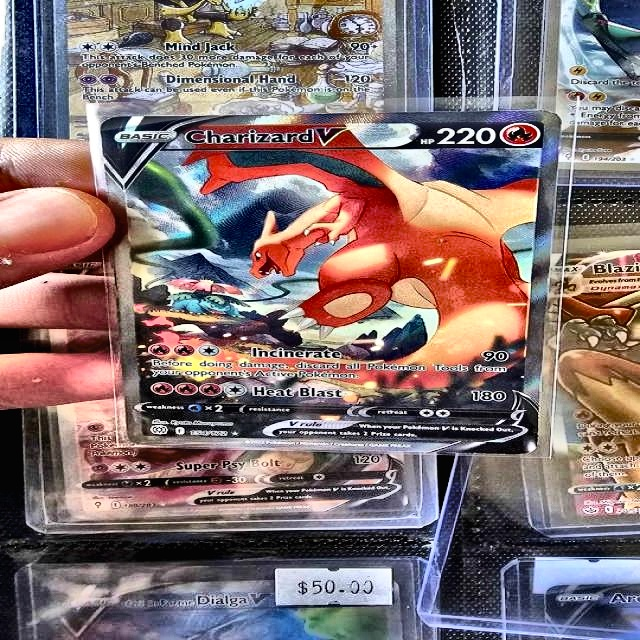card: (100, 109, 563, 454), (56, 0, 399, 143), (540, 249, 640, 529), (49, 574, 405, 640)
